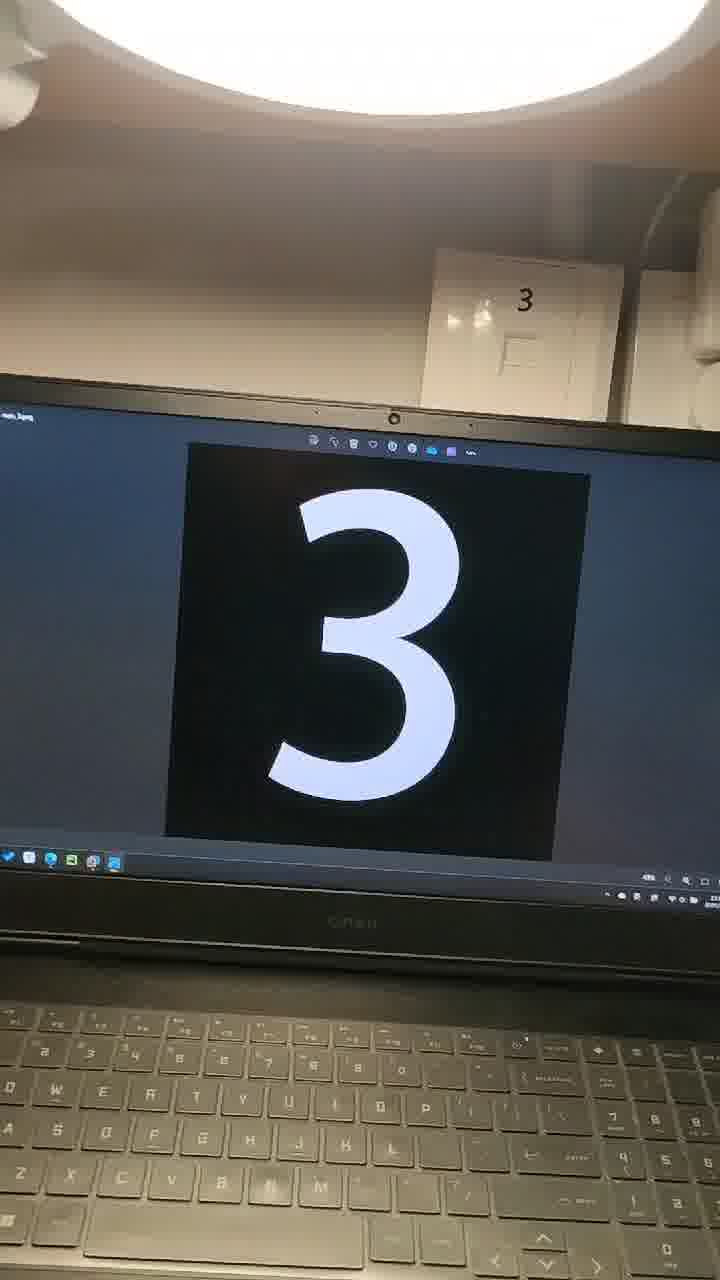three: (220, 444, 526, 867)
